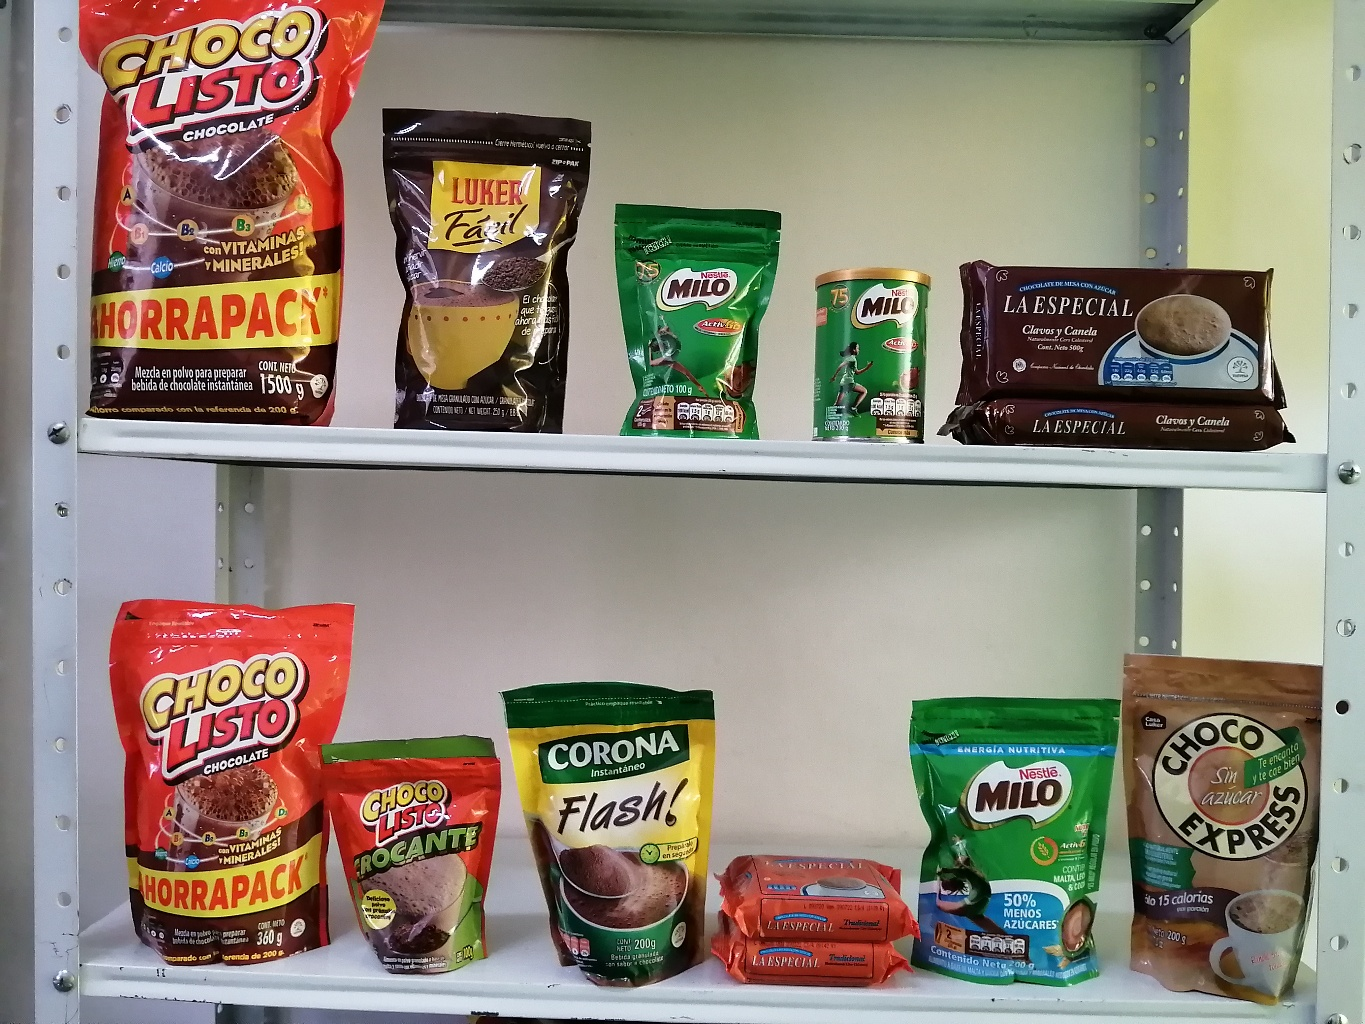COL0170102DYP10000: (319, 730, 500, 971)
COL0170103DYP1,500: (73, 3, 392, 428)
COL0170103DYP36000: (105, 586, 358, 977)
COL0170203DYP10000: (613, 197, 790, 443)
COL0170203LAT20000: (813, 247, 940, 455)
COL0170205DYP20000: (905, 680, 1122, 986)
